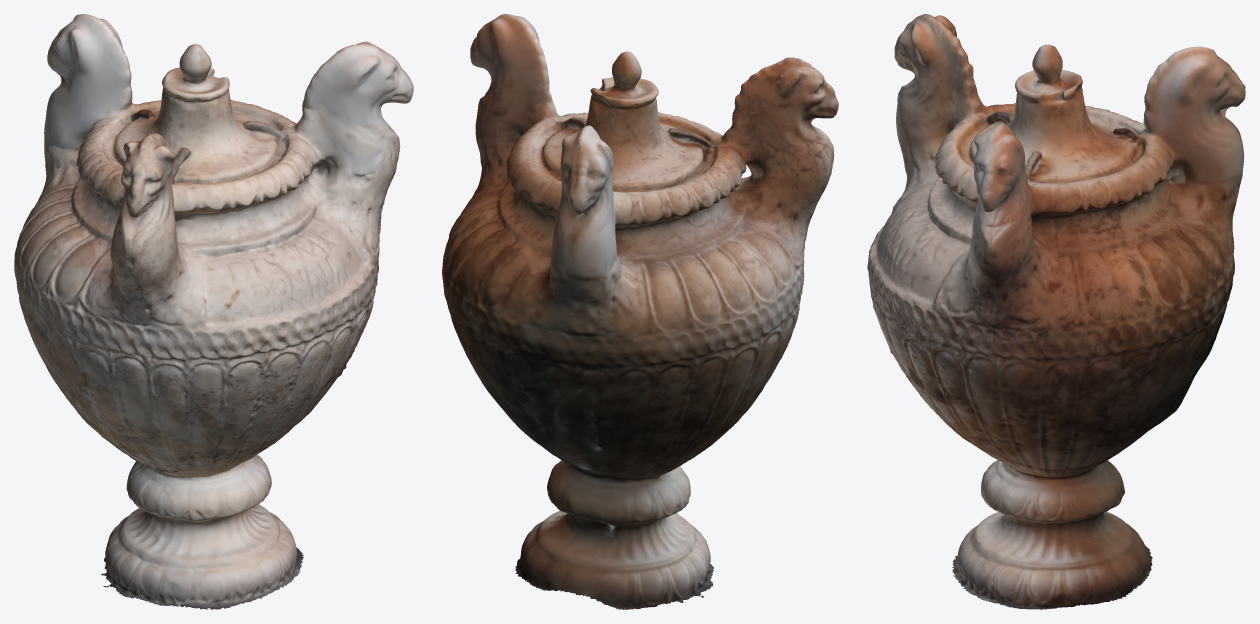
Rendered from obj_cinerary_urn_for_donata_903d1a.glb.
3 renders of one model, left to right at view 1: azimuth 30°, elevation 25°; view 2: azimuth 150°, elevation 25°; view 3: azimuth 270°, elevation 25°, orthographic.
Visible parts, largest first — view 1: obj_cinerary_urn_for_donata_903d1a; view 2: obj_cinerary_urn_for_donata_903d1a; view 3: obj_cinerary_urn_for_donata_903d1a.
Part boxes in pixels (x1=…): obj_cinerary_urn_for_donata_903d1a: x1=14, y1=14, x2=413, y2=609; obj_cinerary_urn_for_donata_903d1a: x1=442, y1=14, x2=838, y2=609; obj_cinerary_urn_for_donata_903d1a: x1=867, y1=14, x2=1245, y2=609.
Bounding box in the file's own units: 0.3411 × 0.5 × 0.3266.
3 materials, 3 textured.
